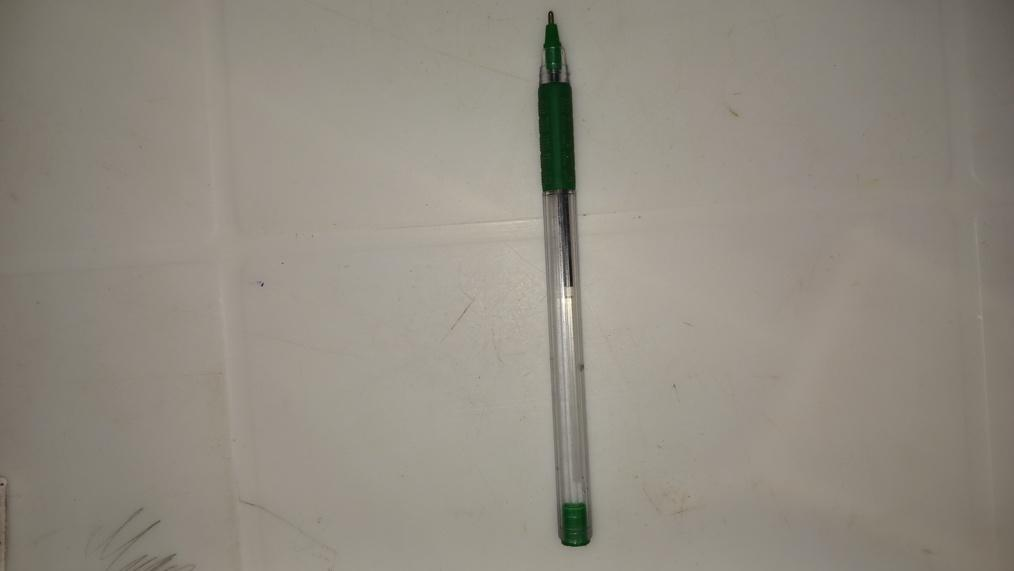pen: (541, 6, 588, 549)
